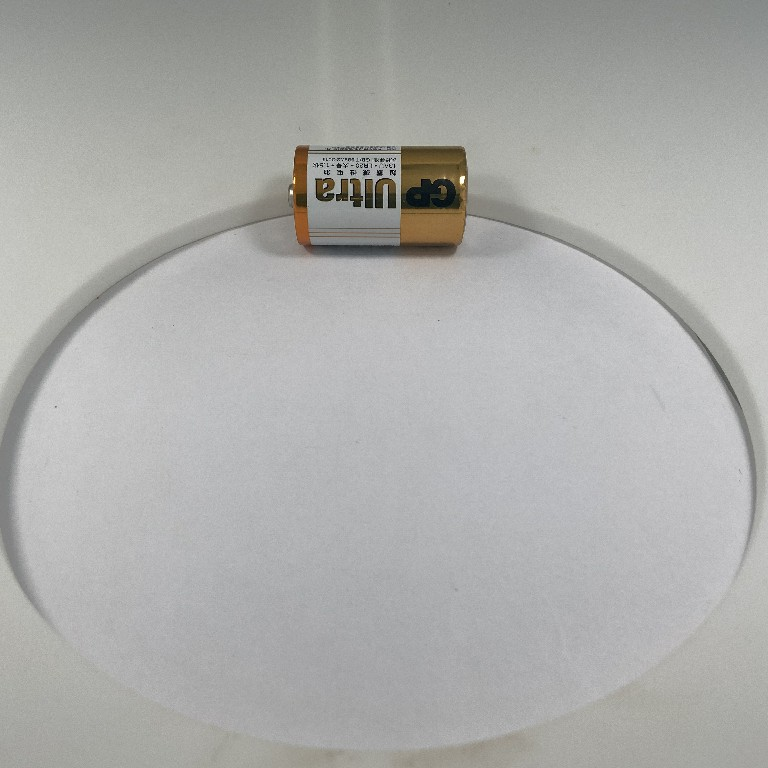charge: (285, 139, 471, 251)
